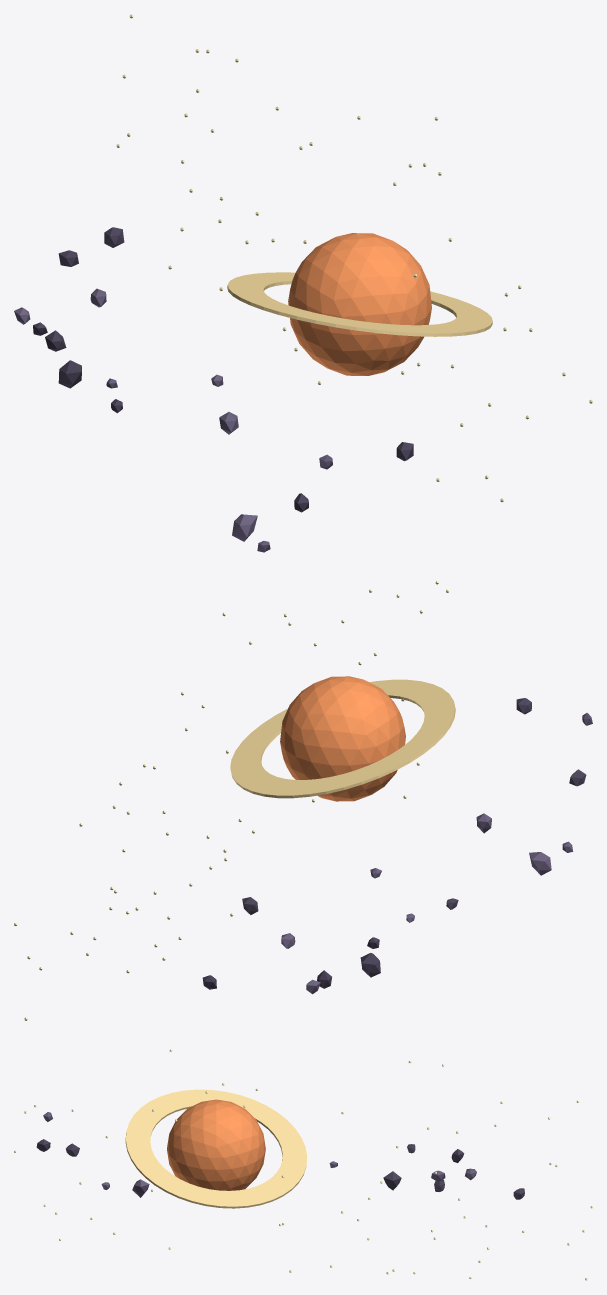
File: espacio_LadoDer.glb
3 renders of one model, top to bottom at view 1: azimuth 30°, elevation 25°; view 2: azimuth 150°, elevation 25°; view 3: azimuth 270°, elevation 25°, orthographic. The views are drawn at different scales.
Parts seen in each view (by area): view 1: Mapa_espacio_LadoDer; view 2: Mapa_espacio_LadoDer; view 3: Mapa_espacio_LadoDer.
Part boxes in pixels (<box>): Mapa_espacio_LadoDer: <box>14,14,592,552</box>; Mapa_espacio_LadoDer: <box>14,581,592,1020</box>; Mapa_espacio_LadoDer: <box>14,1049,592,1280</box>.
Bounding box in the file's own units: 164 × 156 × 397.
1 material, 1 textured.
